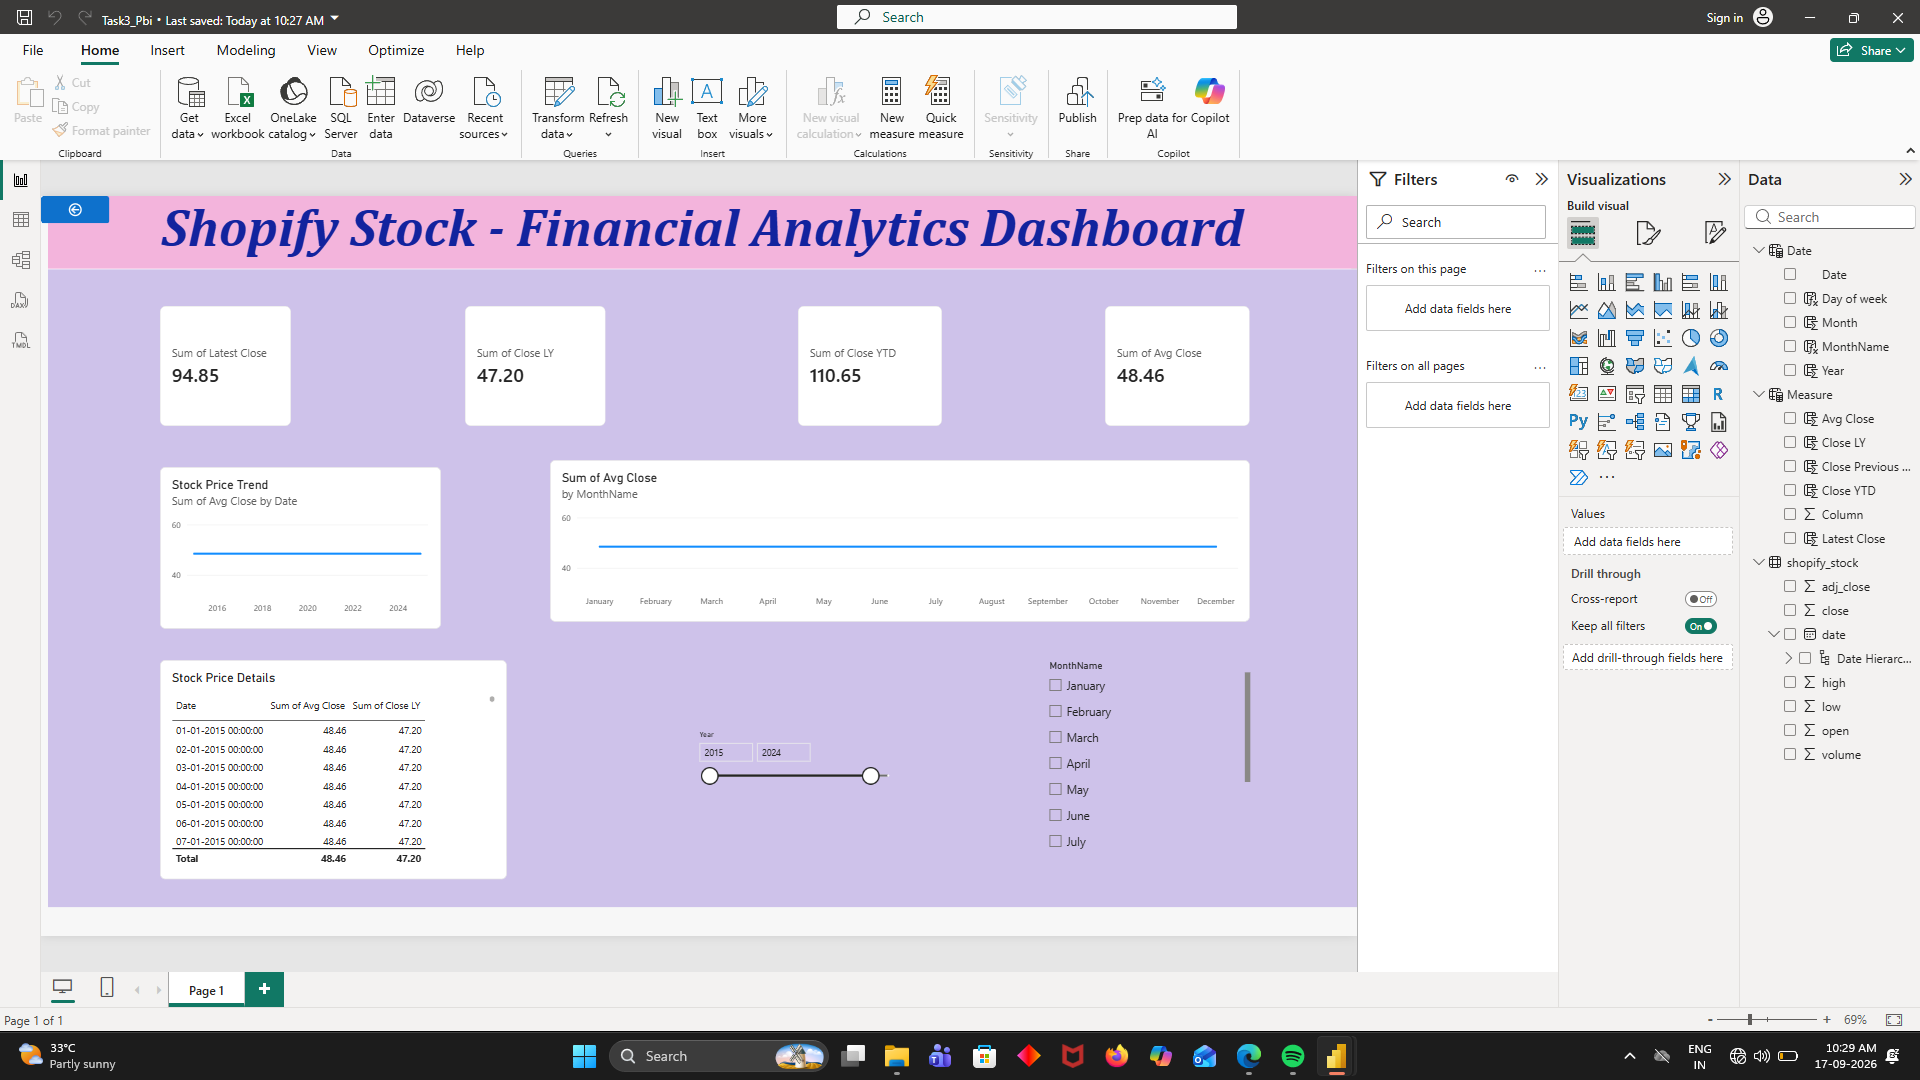

Layout of this report page (visuals, bound fields, positions):
{"tool":"powerbi","page":{"name":"Page 1","canvas":[1920,1080],"ordinal":0},"visuals":[{"type":"textbox","box":[10.2,106.5,1909.8,930.8],"z":0},{"type":"textbox","title":"Shopify Stock - Financial Analytics Dashboard","box":[10.2,0,1909.8,106.5],"z":1000},{"type":"cardVisual","fields":{"Data":["Sum(Measure.Latest Close)"]},"box":[173.6,160.5,191.1,175.1],"z":2000},{"type":"cardVisual","fields":{"Data":["Sum(Measure.Close LY)"]},"box":[618.6,160.5,205.7,175.1],"z":3000},{"type":"cardVisual","fields":{"Data":["Sum(Measure.Close YTD)"]},"box":[1104.4,160.5,210.1,175.1],"z":4000},{"type":"cardVisual","fields":{"Data":["Sum(Measure.Avg Close)"]},"box":[1552.3,160.5,211.6,175.1],"z":5000},{"type":"tableEx","title":"Stock Price Details","fields":{"Values":["Date.Date.Variation.Date Hierarchy.Year","Date.Date.Variation.Date Hierarchy.Quarter","Date.Date.Variation.Date Hierarchy.Month","Date.Date.Variation.Date Hierarchy.Day","Sum(Measure.Avg Close)","Sum(Measure.Close LY)"]},"box":[173.6,677,506.3,319.5],"z":7000},{"type":"actionButton","box":[0,0,100,40],"z":8000},{"type":"lineChart","title":"Stock Price Trend","fields":{"Category":["Date.Date.Variation.Date Hierarchy.Year","Date.Date.Variation.Date Hierarchy.Quarter","Date.Date.Variation.Date Hierarchy.Month","Date.Date.Variation.Date Hierarchy.Day"],"Y":["Sum(Measure.Avg Close)"]},"box":[173.6,395.4,410,236.4],"z":9000},{"type":"slicer","fields":{"Values":["Date.Year"]},"box":[952.7,779.1,300.5,84.6],"z":9001},{"type":"slicer","fields":{"Values":["Date.MonthName"]},"box":[1463.3,677,300.5,288.9],"z":9002},{"type":"lineChart","fields":{"Category":["Date.MonthName"],"Y":["Sum(Measure.Avg Close)"]},"box":[742.6,385.2,1021.3,236.4],"z":9003}]}

Visuals, with their boxes on the page's 1920x1080 design canvas (x1, y1, x2, y2). These are canvas units, not pixel positions in the 1920x1080 screenshot, which may show the page scaled, cropped or inside an application window:
textbox: [10, 106, 1920, 1037]
"Shopify Stock - Financial Analytics Dashboard" textbox: [10, 0, 1920, 106]
cardVisual - Sum(Measure.Latest Close): [174, 160, 365, 336]
cardVisual - Sum(Measure.Close LY): [619, 160, 824, 336]
cardVisual - Sum(Measure.Close YTD): [1104, 160, 1314, 336]
cardVisual - Sum(Measure.Avg Close): [1552, 160, 1764, 336]
"Stock Price Details" tableEx: [174, 677, 680, 996]
actionButton: [0, 0, 100, 40]
"Stock Price Trend" lineChart: [174, 395, 584, 632]
slicer - Date.Year: [953, 779, 1253, 864]
slicer - Date.MonthName: [1463, 677, 1764, 966]
lineChart - Date.MonthName x Sum(Measure.Avg Close): [743, 385, 1764, 622]
